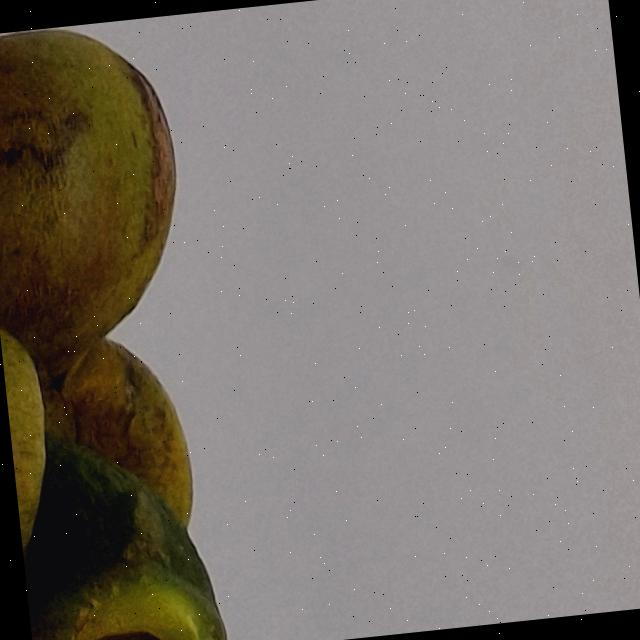mangosteen: (0, 0, 487, 640)
